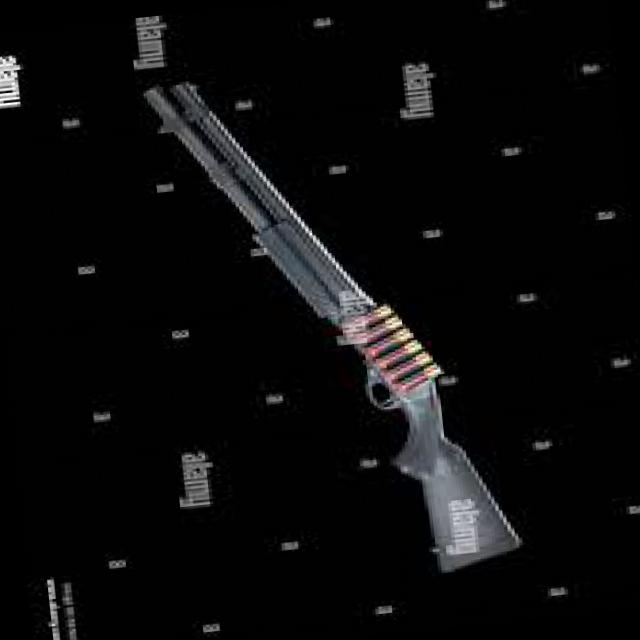long weapon: (91, 53, 542, 592)
